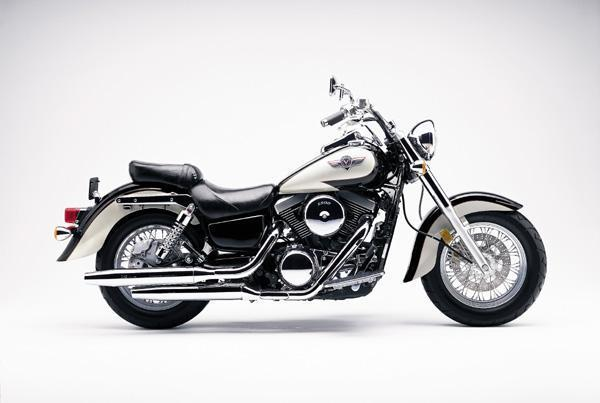motorcycle: (44, 61, 554, 345)
